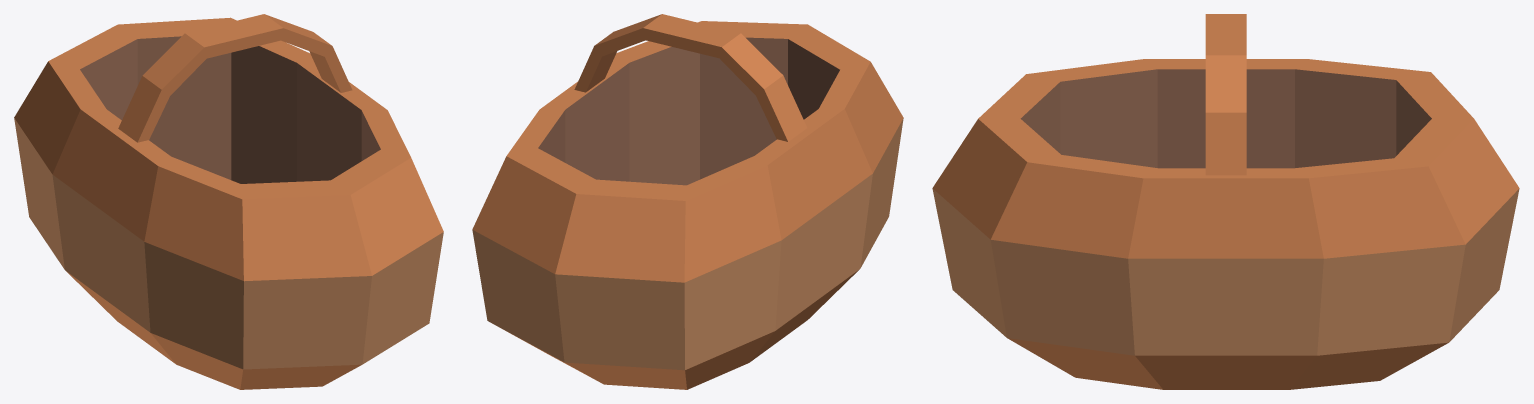
Rendered from Basket.fbx.
The picture shows the model from 3 angles, left to right: view 1: azimuth 30°, elevation 25°; view 2: azimuth 150°, elevation 25°; view 3: azimuth 270°, elevation 25°; orthographic projection. The views are drawn at different scales.
Parts seen in each view (by area): view 1: Basket; view 2: Basket; view 3: Basket.
Boxes of the visible parts, bbox=[...] form: Basket: bbox=[14, 14, 443, 389]; Basket: bbox=[472, 14, 903, 389]; Basket: bbox=[932, 14, 1519, 389].
Size of the model in its own units: 30.59 by 31.34 by 53.77.
